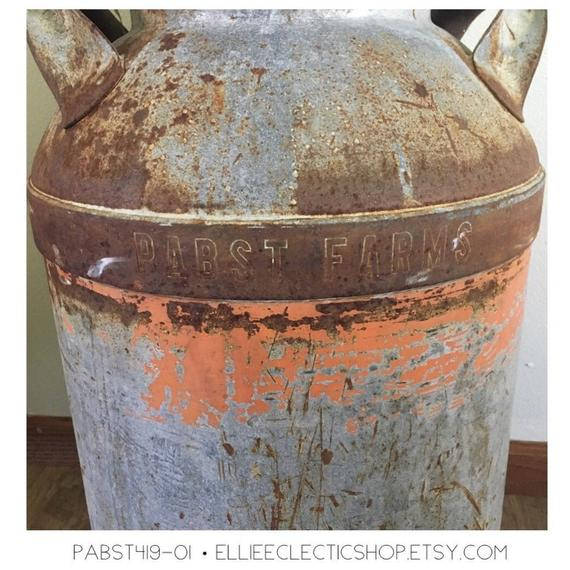metal: (26, 9, 546, 529)
